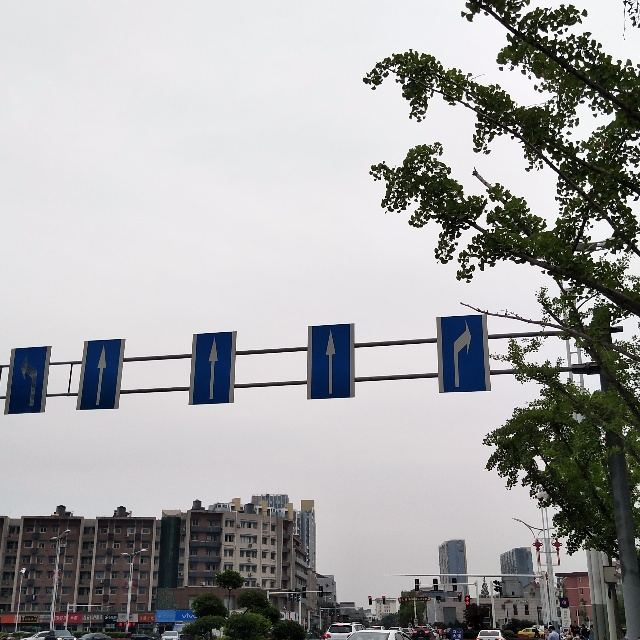left: (10, 344, 49, 412)
right: (443, 319, 488, 387)
straight: (307, 323, 353, 401), (197, 335, 236, 406), (85, 342, 117, 409)
